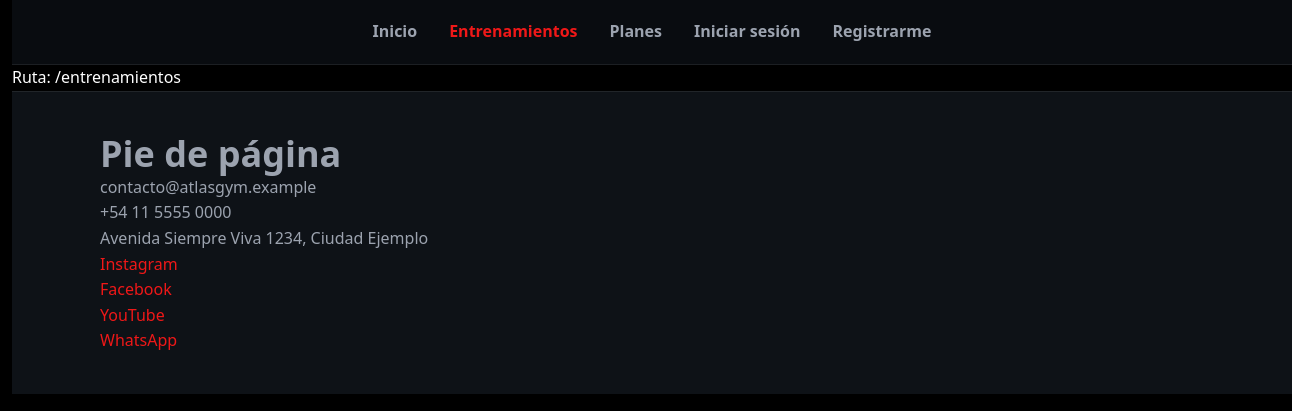
Test: Navbar: navegación con desplazamiento › Dado una ruta distinta de la raíz, Cuando el visitante activa Planes, Entonces navega a la raíz con el ancla de planes
Click the link "Planes".
click(636, 31)  # box [610, 20, 662, 42]
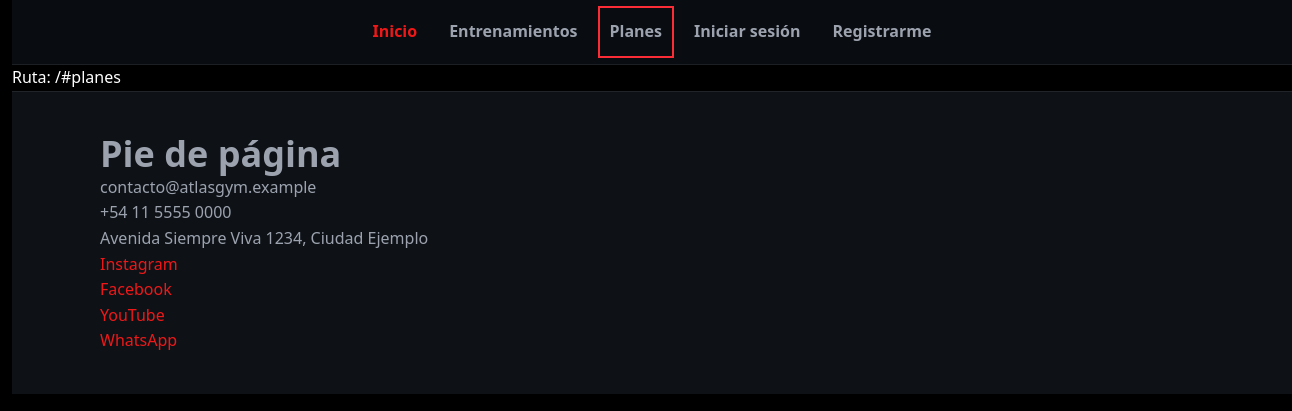
Check: the text "Ruta: /#planes" is shown, box [12, 66, 121, 88]
